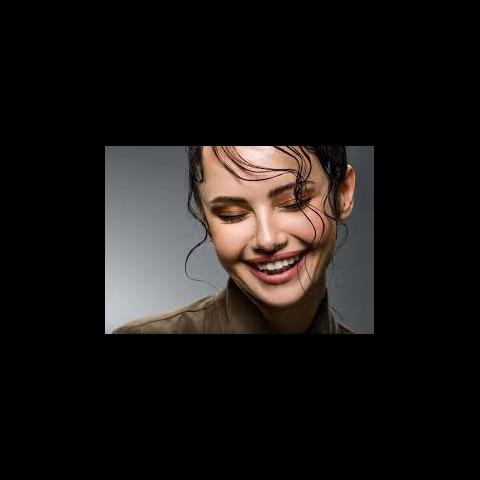closed: (195, 183, 332, 225)
